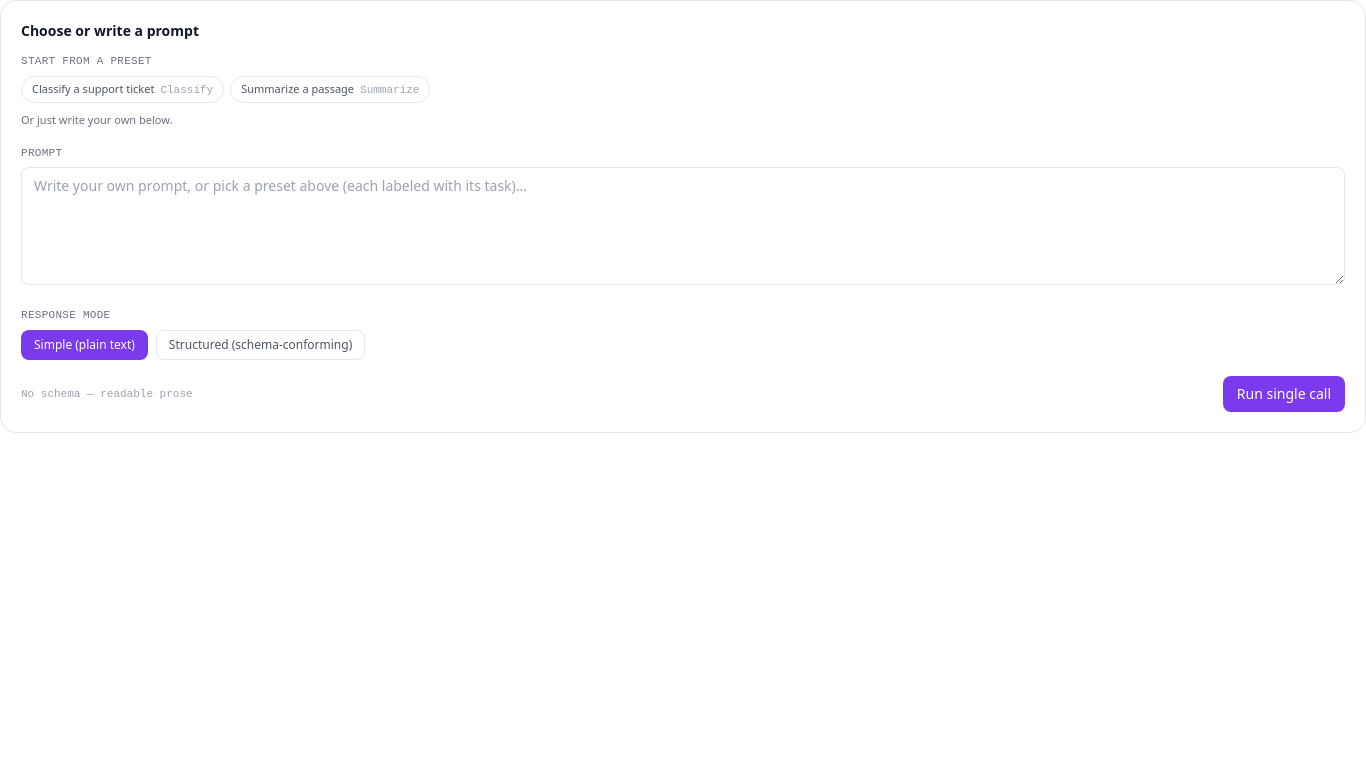
Scenario: SingleCallApp › leaves structured mode’s raw output as raw text, not markdown
Click the radio button labelled "Structured (schema-conforming)".
click(261, 345)  # box [156,330,365,360]
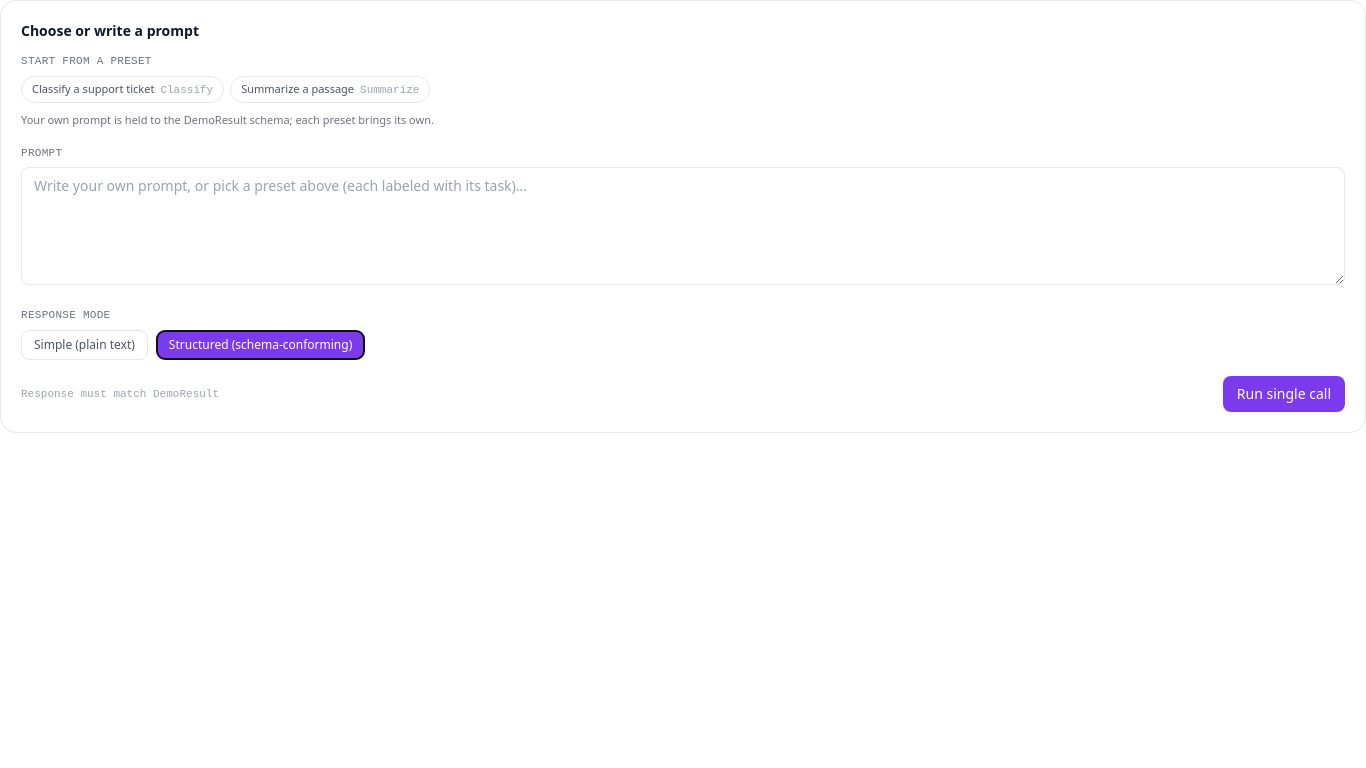
Type "classify this" into the text box labelled "Prompt".
click(683, 226); type("classify this")  # box [21,167,1345,285]
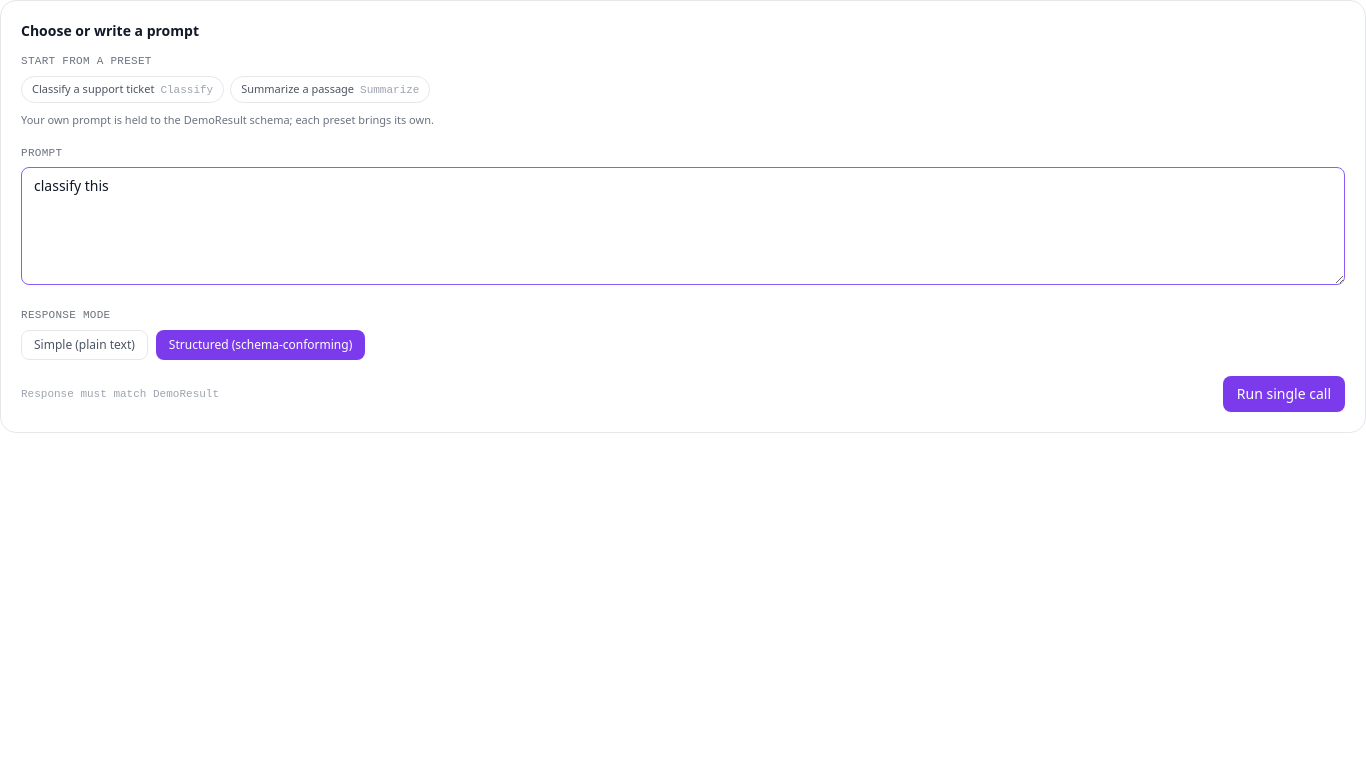
Click the button "Run single call".
click(1284, 394)  # box [1223,376,1345,412]
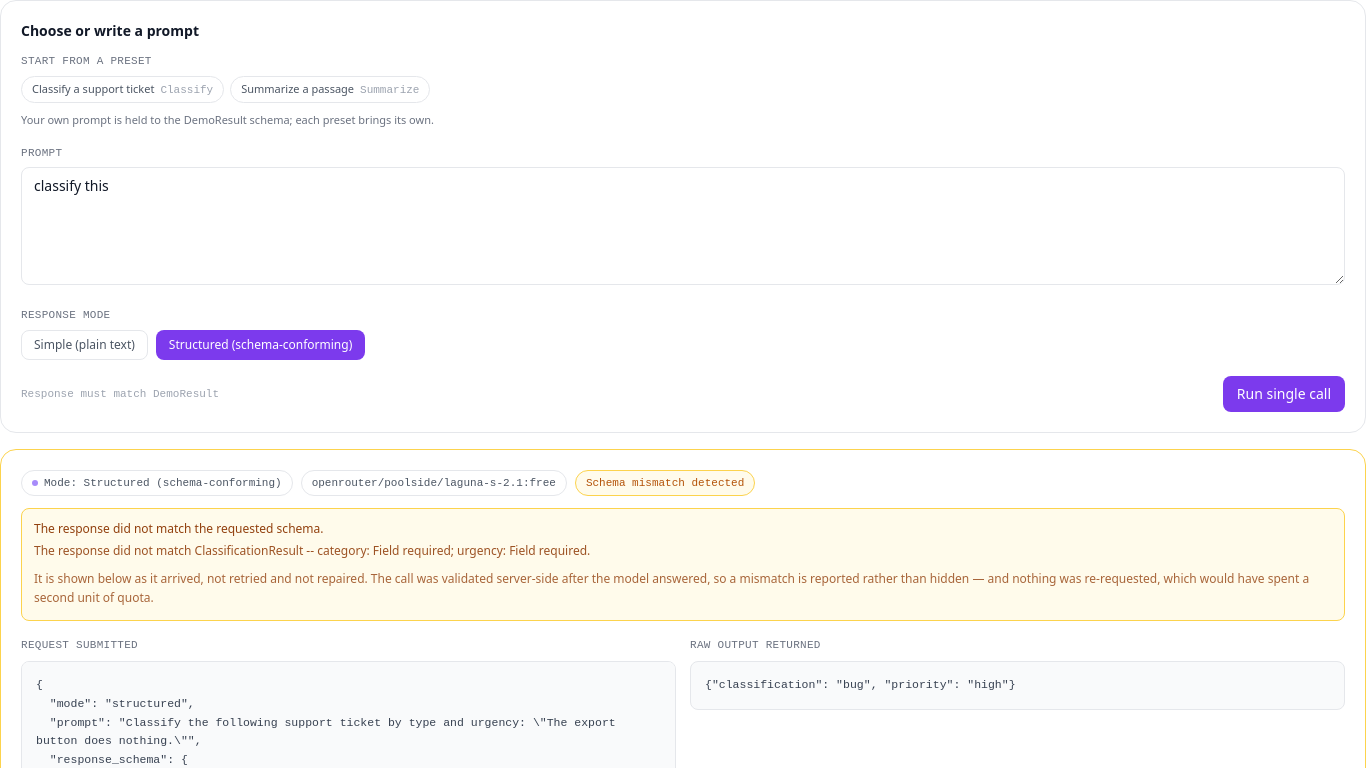
Check: the text "{\"classification\": \"bug\", \"priority\": \"high\"}" is shown, box [690,661,1345,710]
